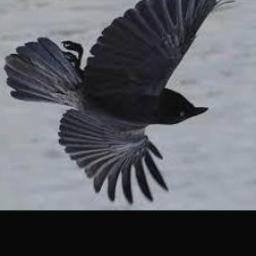Crow: (5, 0, 256, 205)
